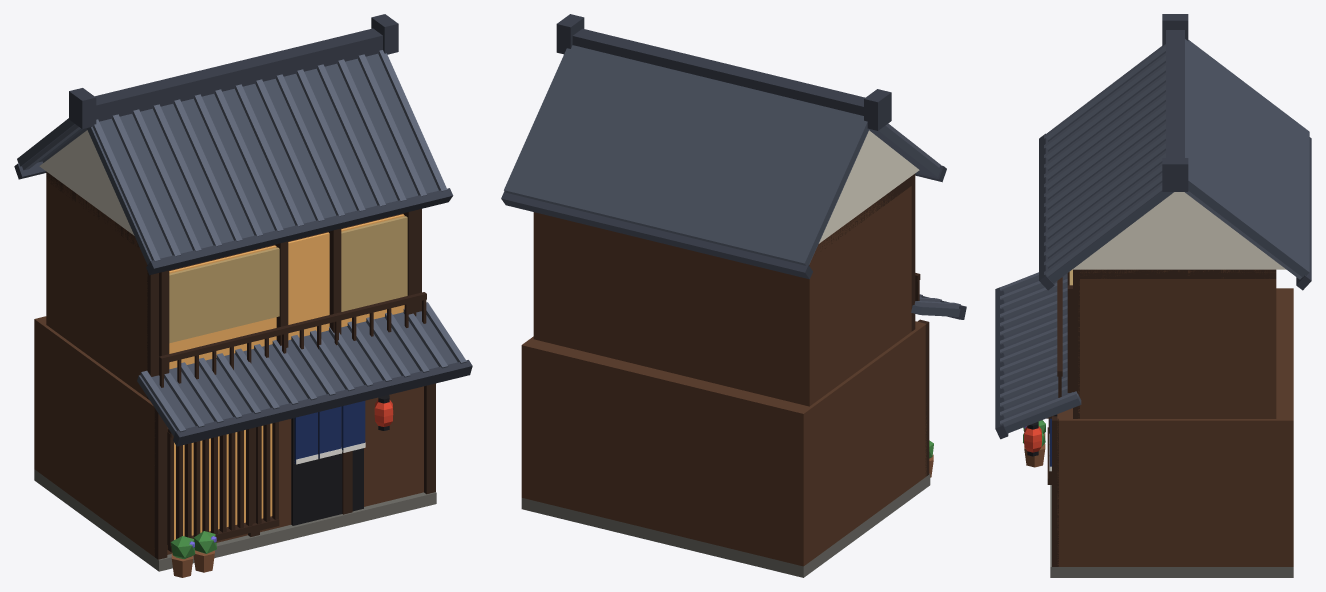
The model's file is machiya-b.glb.
3 views of the same model, side by side, from view 1: azimuth 30°, elevation 25°; view 2: azimuth 150°, elevation 25°; view 3: azimuth 270°, elevation 25° (orthographic). The views are drawn at different scales.
Visible parts, largest first — view 1: MachiyaB_WoodMid, MachiyaB_Roof, MachiyaB_Rib, MachiyaB_Wood, MachiyaB_Ridge, MachiyaB_Sudare, MachiyaB_Glow, MachiyaB_Base, MachiyaB_Caps, MachiyaB_Plaster, MachiyaB_Noren, MachiyaB_Leaf (+1 smaller); view 2: MachiyaB_WoodMid, MachiyaB_Roof, MachiyaB_Ridge, MachiyaB_Base, MachiyaB_Plaster, MachiyaB_Wood, MachiyaB_Rib; view 3: MachiyaB_WoodMid, MachiyaB_Roof, MachiyaB_Rib, MachiyaB_Plaster, MachiyaB_Ridge, MachiyaB_Wood, MachiyaB_Base, MachiyaB_Lantern.
Part boxes in pixels (x1=…): MachiyaB_WoodMid: x1=34, y1=173, x2=423, y2=556; MachiyaB_Roof: x1=17, y1=53, x2=457, y2=436; MachiyaB_Rib: x1=22, y1=50, x2=466, y2=432; MachiyaB_Wood: x1=46, y1=171, x2=435, y2=559; MachiyaB_Ridge: x1=14, y1=14, x2=472, y2=446; MachiyaB_Sudare: x1=169, y1=216, x2=407, y2=343; MachiyaB_Glow: x1=169, y1=214, x2=404, y2=539; MachiyaB_Base: x1=34, y1=469, x2=436, y2=571; MachiyaB_Caps: x1=291, y1=395, x2=389, y2=525; MachiyaB_Plaster: x1=39, y1=130, x2=134, y2=235; MachiyaB_Noren: x1=294, y1=401, x2=365, y2=463; MachiyaB_Leaf: x1=170, y1=531, x2=216, y2=558; MachiyaB_WoodMid: x1=521, y1=186, x2=926, y2=566; MachiyaB_Roof: x1=504, y1=45, x2=960, y2=316; MachiyaB_Ridge: x1=501, y1=14, x2=966, y2=319; MachiyaB_Base: x1=521, y1=473, x2=930, y2=577; MachiyaB_Plaster: x1=819, y1=130, x2=919, y2=243; MachiyaB_Wood: x1=815, y1=173, x2=929, y2=476; MachiyaB_Rib: x1=809, y1=123, x2=960, y2=308; MachiyaB_WoodMid: x1=1057, y1=269, x2=1293, y2=566; MachiyaB_Roof: x1=1004, y1=39, x2=1309, y2=433; MachiyaB_Rib: x1=1000, y1=44, x2=1301, y2=426; MachiyaB_Plaster: x1=1072, y1=192, x2=1285, y2=269; MachiyaB_Ridge: x1=995, y1=14, x2=1311, y2=439; MachiyaB_Wood: x1=1046, y1=269, x2=1276, y2=566; MachiyaB_Base: x1=1050, y1=485, x2=1293, y2=577; MachiyaB_Lantern: x1=1024, y1=426, x2=1041, y2=452.
Size of the model in its own units: 20.5 by 26.85 by 18.23.
